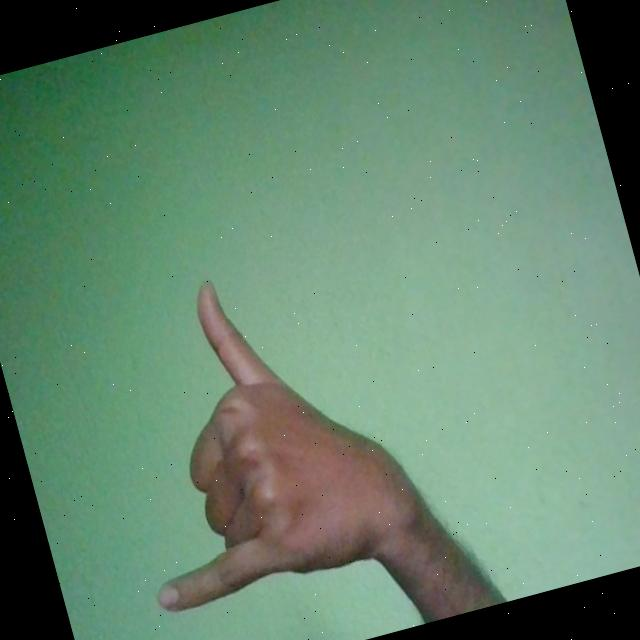Call Me: (80, 240, 437, 618)
